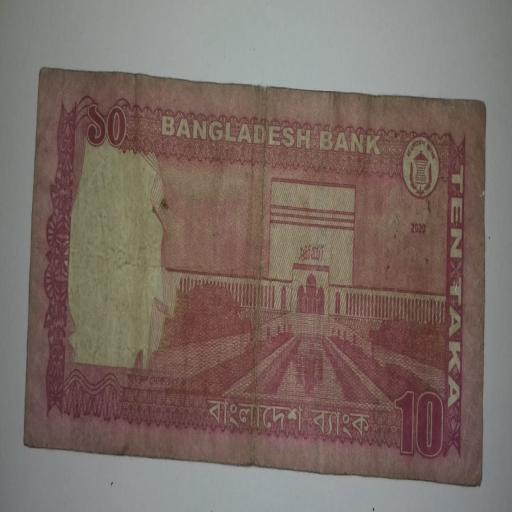10taka: (26, 79, 484, 473)
